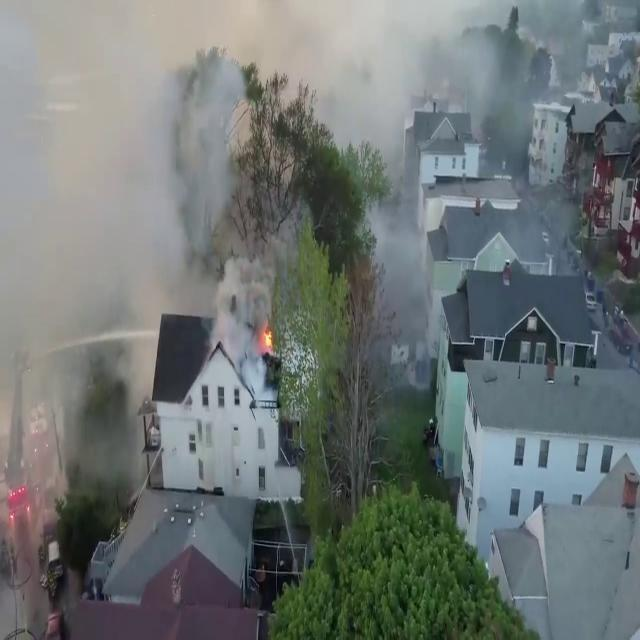Smoke: (0, 0, 268, 361), (368, 173, 449, 381)
